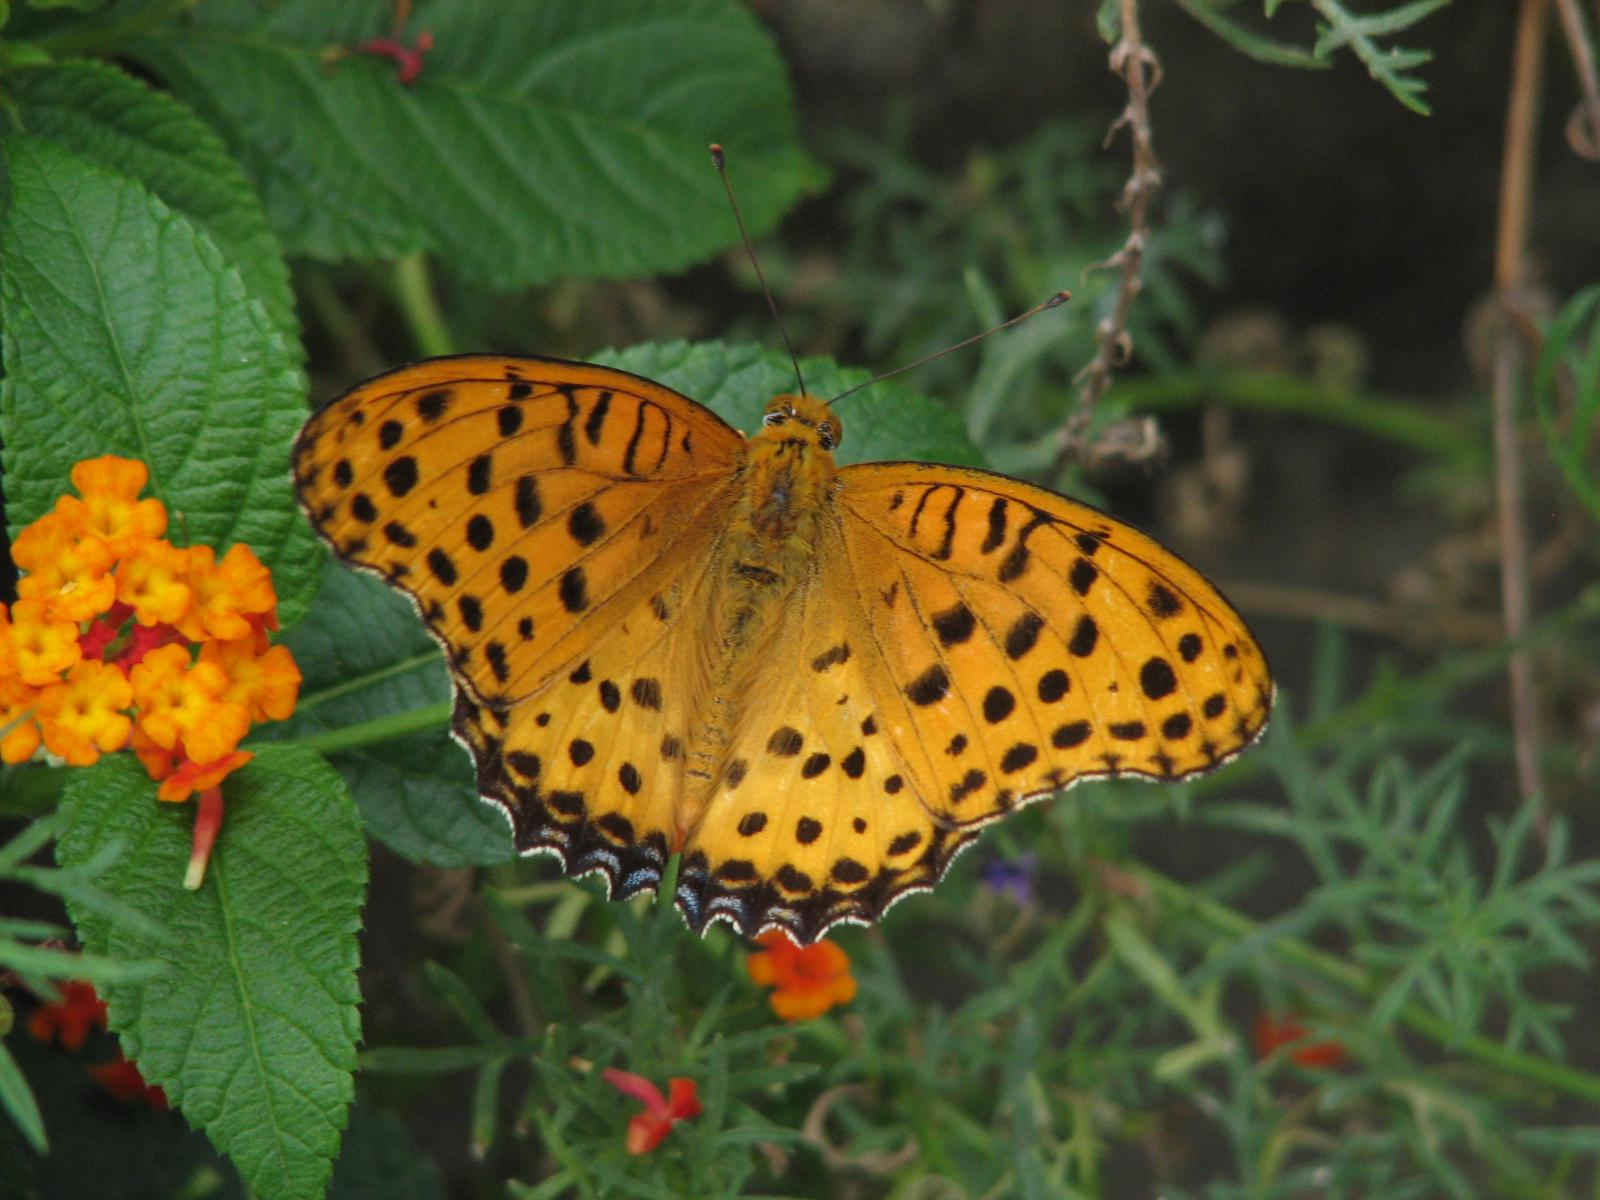Argyreus hyperbius: (273, 118, 1284, 963)
butterfly: (276, 120, 1286, 966)
